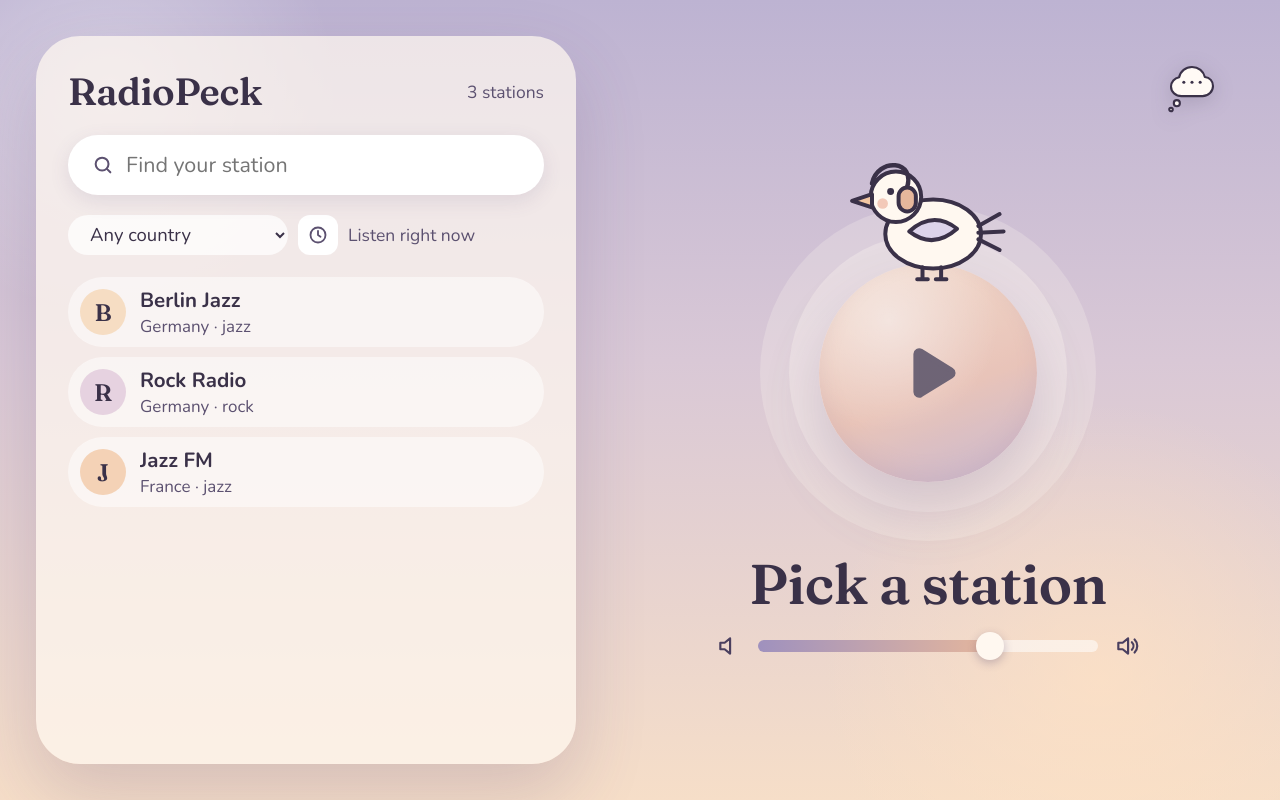
App › filters the list by name as the user types
The width and height of the screenshot is (1280, 800).
Type "jazz" into the search field named "Search stations" at (306,165), box [68,135,544,195]
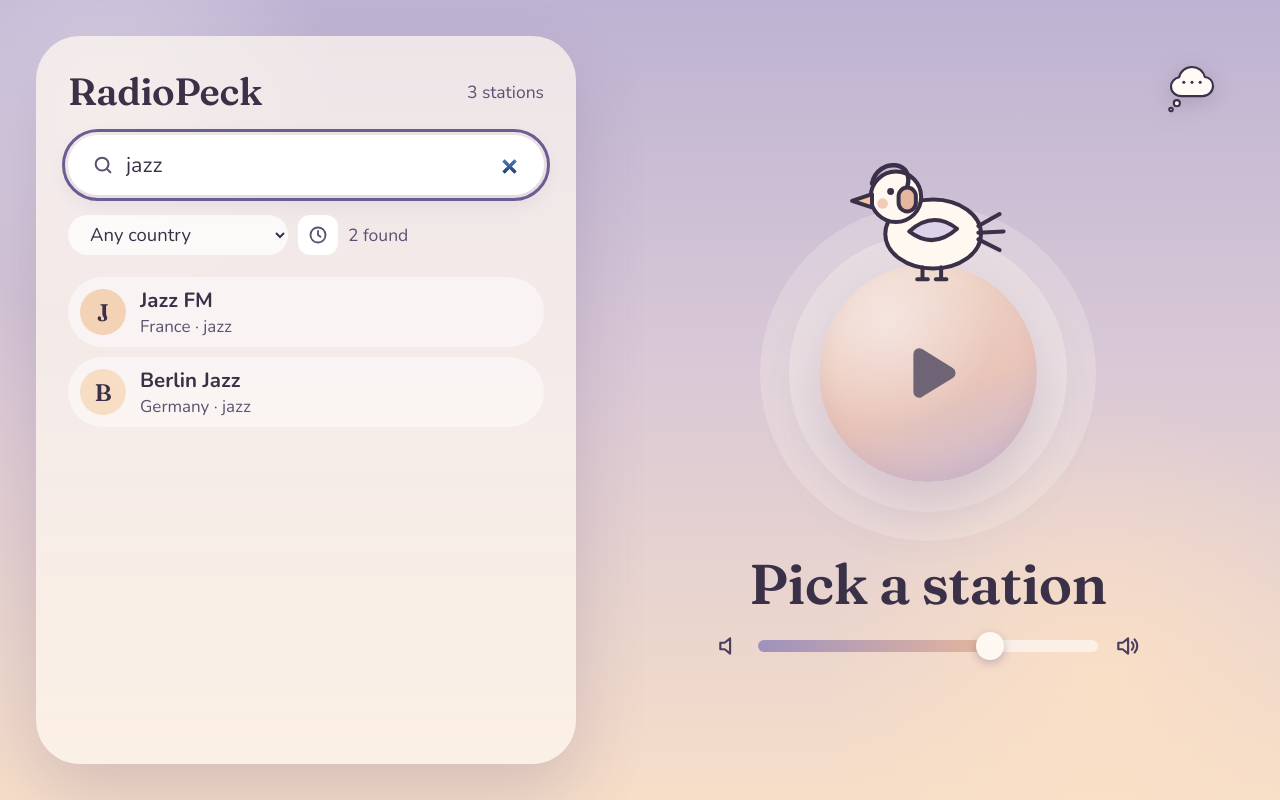
Check: the text "Jazz FM" is shown, box [140,286,213,314]
Check: the button "Rock Radio" is gone
Check: the text "2 found" is shown, box [348,223,408,247]
